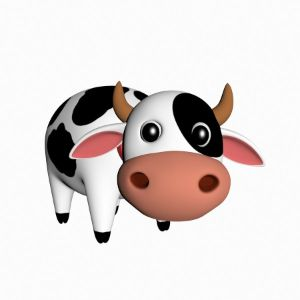cow: (41, 79, 264, 244)
